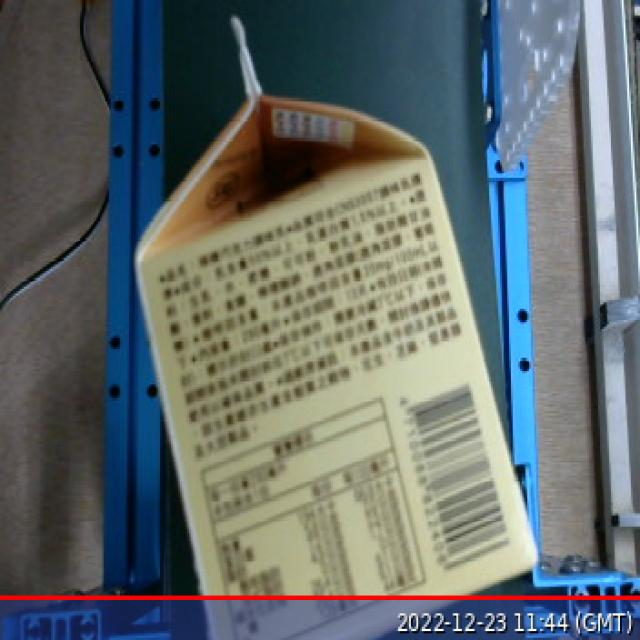non_white_jug: (117, 9, 561, 640)
